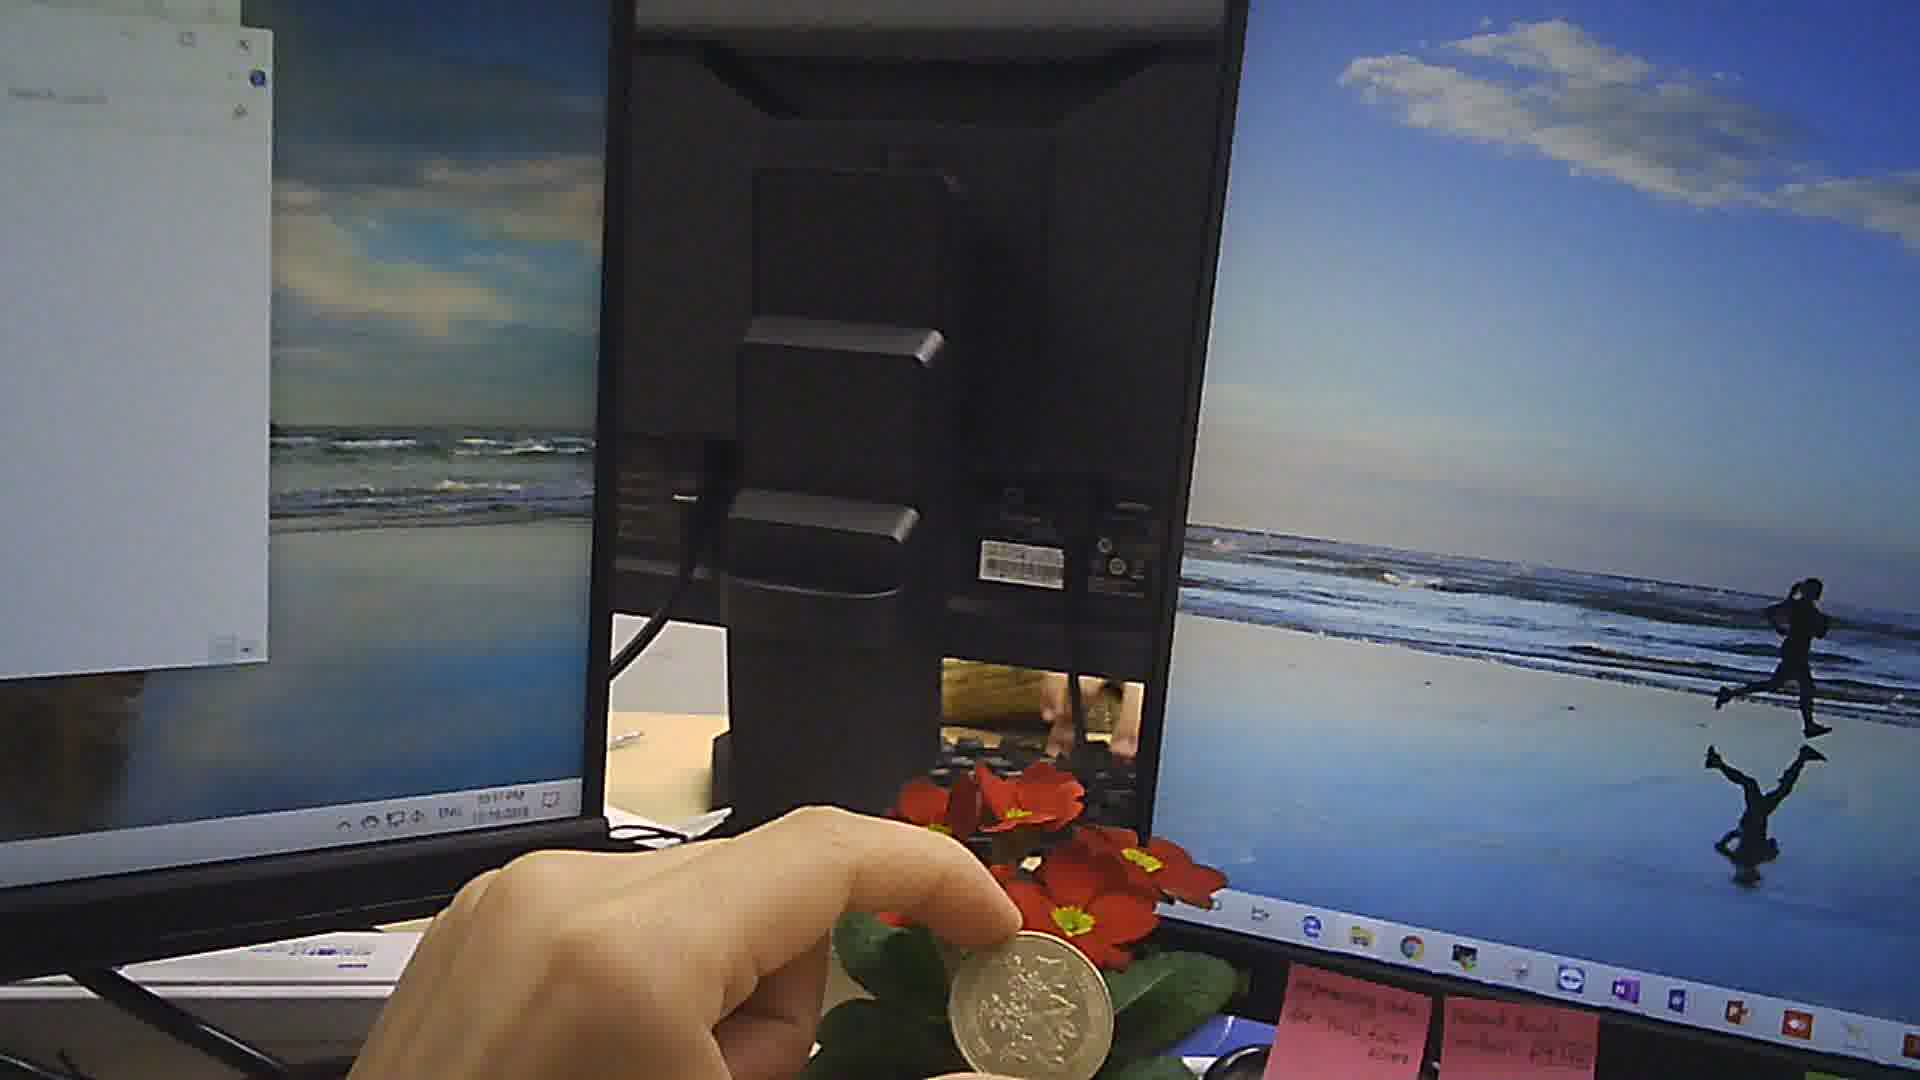500 Yen: (948, 926, 1120, 1079)
